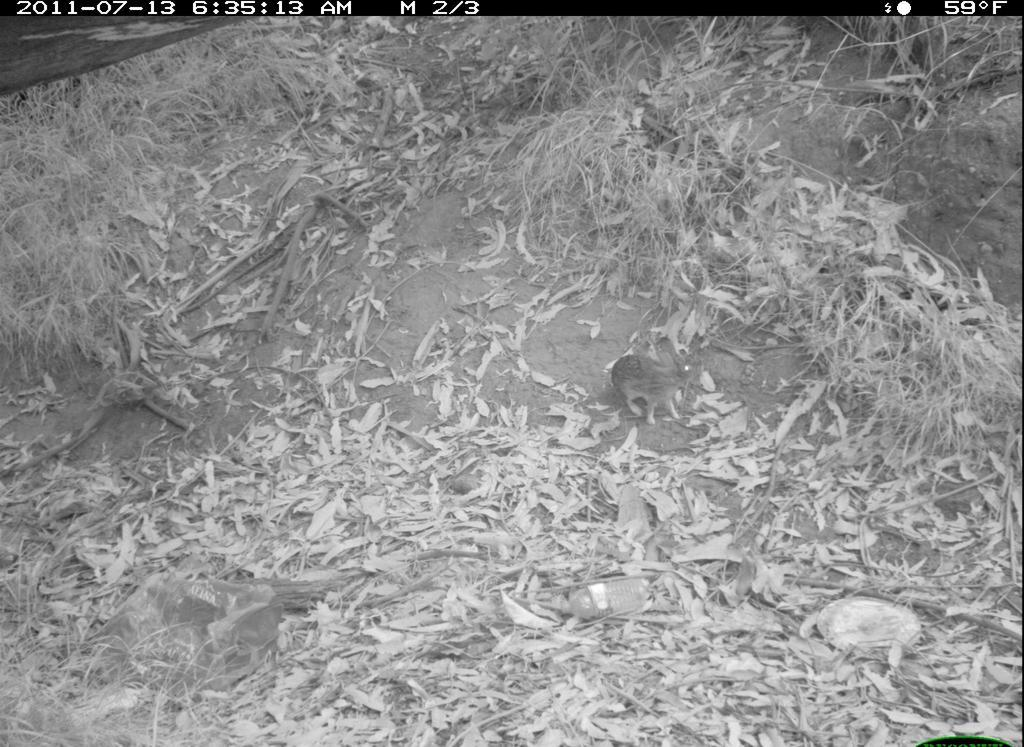rabbit: (609, 345, 710, 433)
